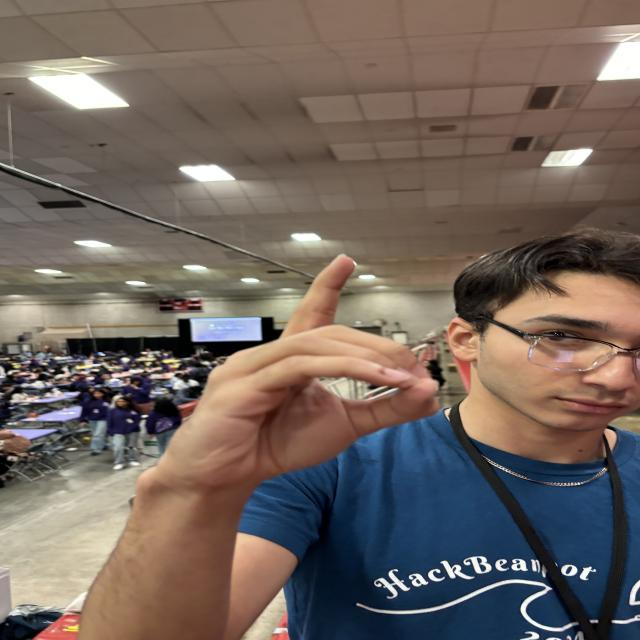D: (205, 248, 442, 457)
